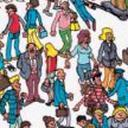waldo: (85, 67, 117, 113)
